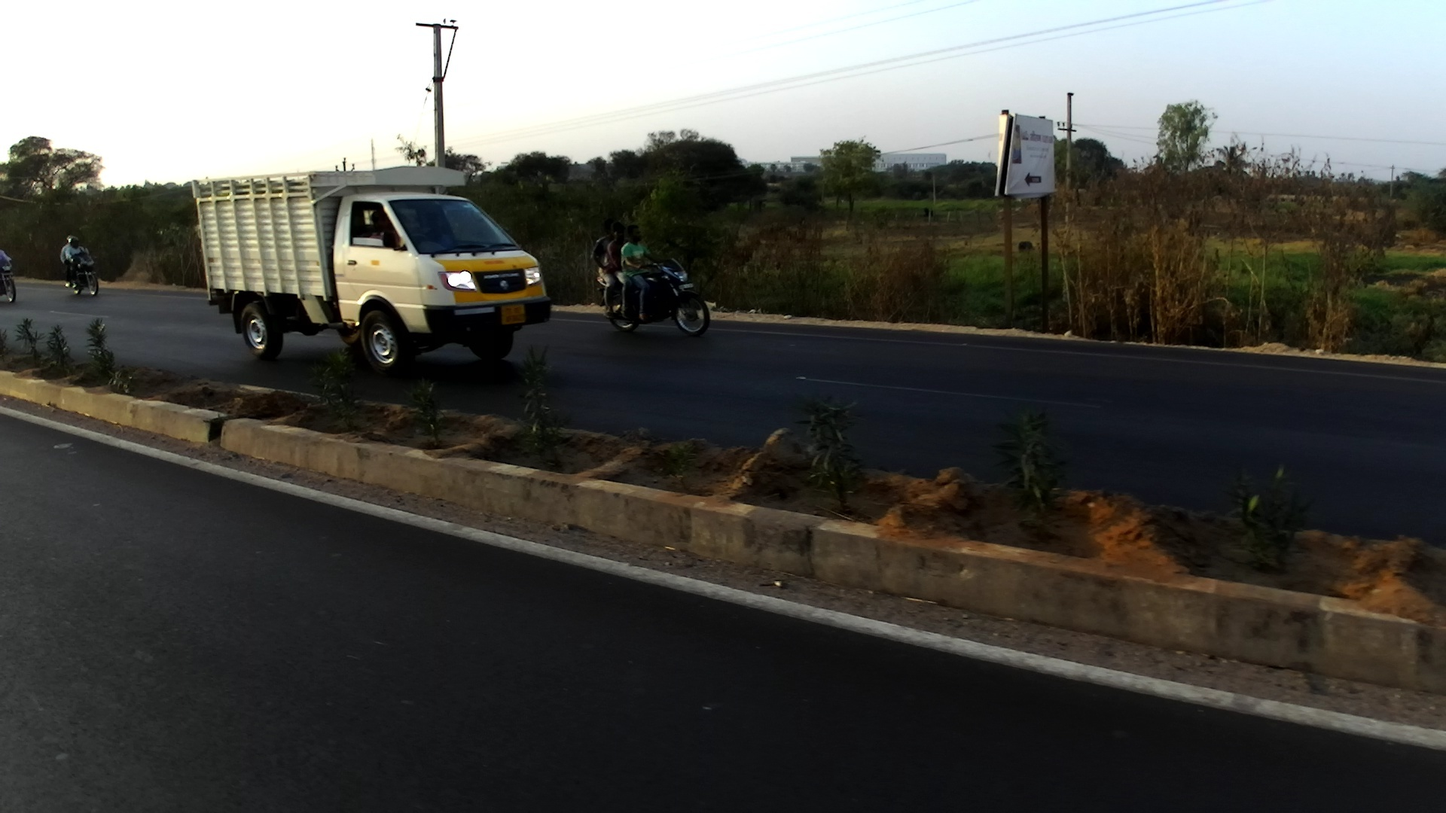motorcycle: (597, 249, 711, 336), (63, 252, 102, 297), (1, 260, 19, 305)
rider: (621, 222, 662, 322), (591, 221, 617, 326), (606, 221, 631, 325), (69, 235, 90, 291), (63, 236, 72, 288), (2, 244, 15, 279)
truck: (189, 165, 554, 372)
